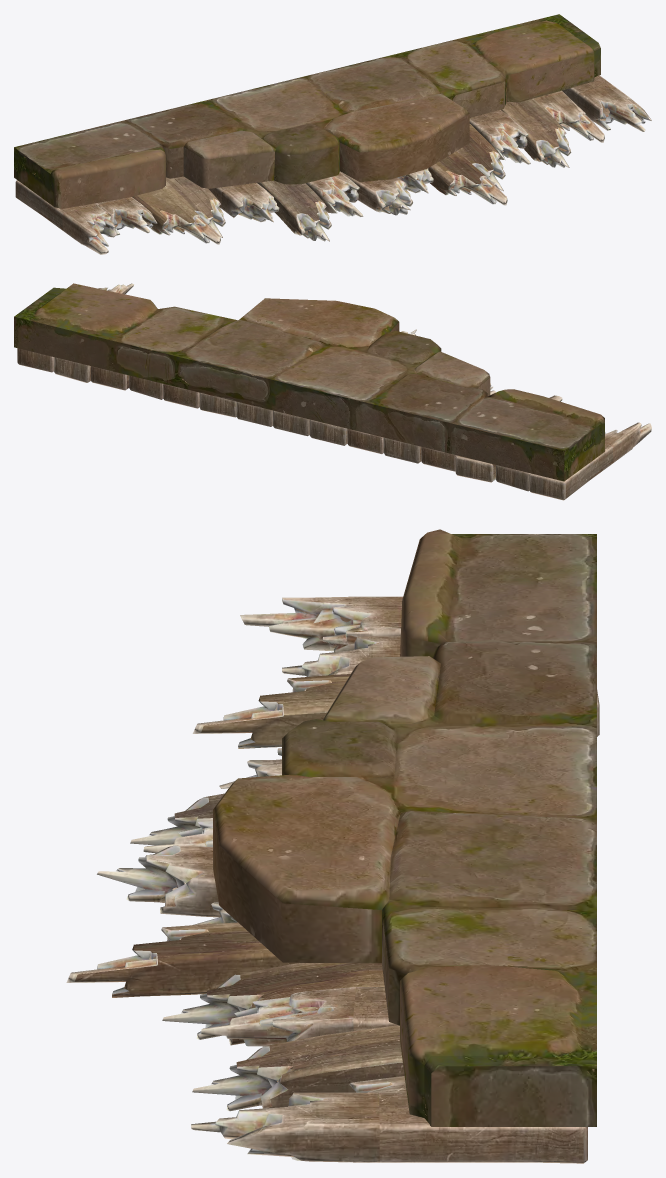
The picture shows the model from 3 angles, top to bottom: view 1: azimuth 30°, elevation 25°; view 2: azimuth 150°, elevation 25°; view 3: azimuth 270°, elevation 25°; orthographic projection. The views are drawn at different scales.
Parts seen in each view (by area): view 1: SM_Human_Ruins_Floor_Dmg_01_LOD0; view 2: SM_Human_Ruins_Floor_Dmg_01_LOD0; view 3: SM_Human_Ruins_Floor_Dmg_01_LOD0.
Boxes of the visible parts, box(x1,y1,x2,y2) form: SM_Human_Ruins_Floor_Dmg_01_LOD0: box(14, 14, 651, 254); SM_Human_Ruins_Floor_Dmg_01_LOD0: box(14, 283, 651, 500); SM_Human_Ruins_Floor_Dmg_01_LOD0: box(66, 529, 599, 1163).
Size of the model in its own units: 4 by 0.4972 by 1.69.
2 materials, 2 textured.
